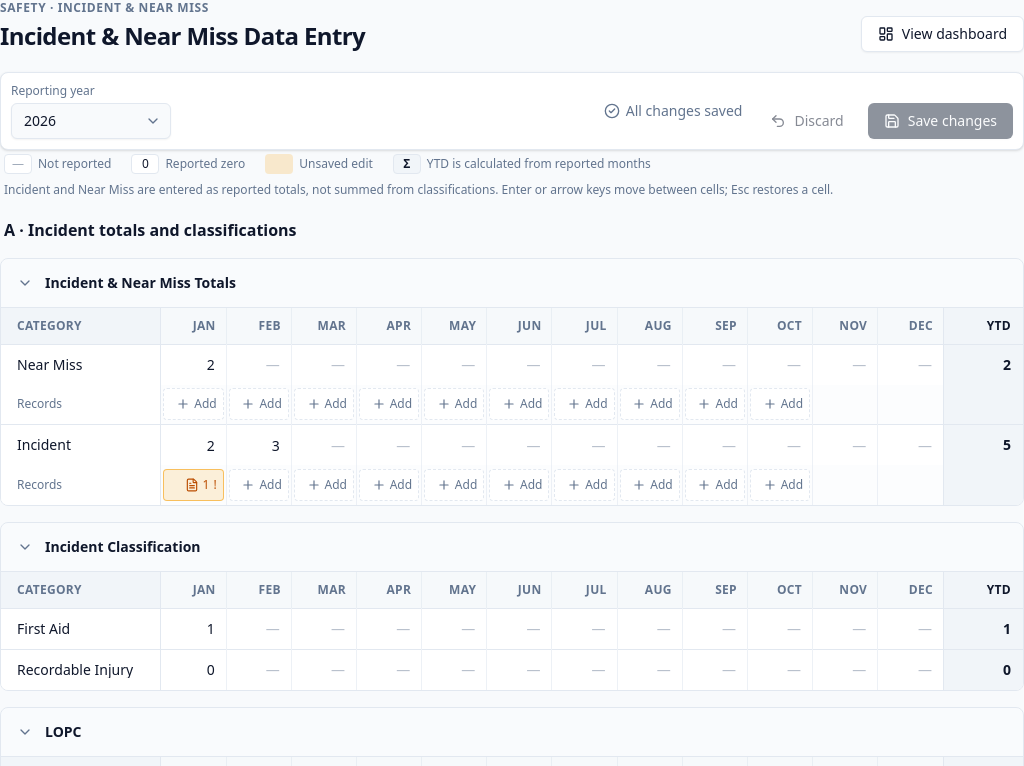
Scenario: Monthly record actions › opens the month's records with the total, count, status and permitted actions only
Click the button "1 !": click(193, 485) [163,469,224,501]
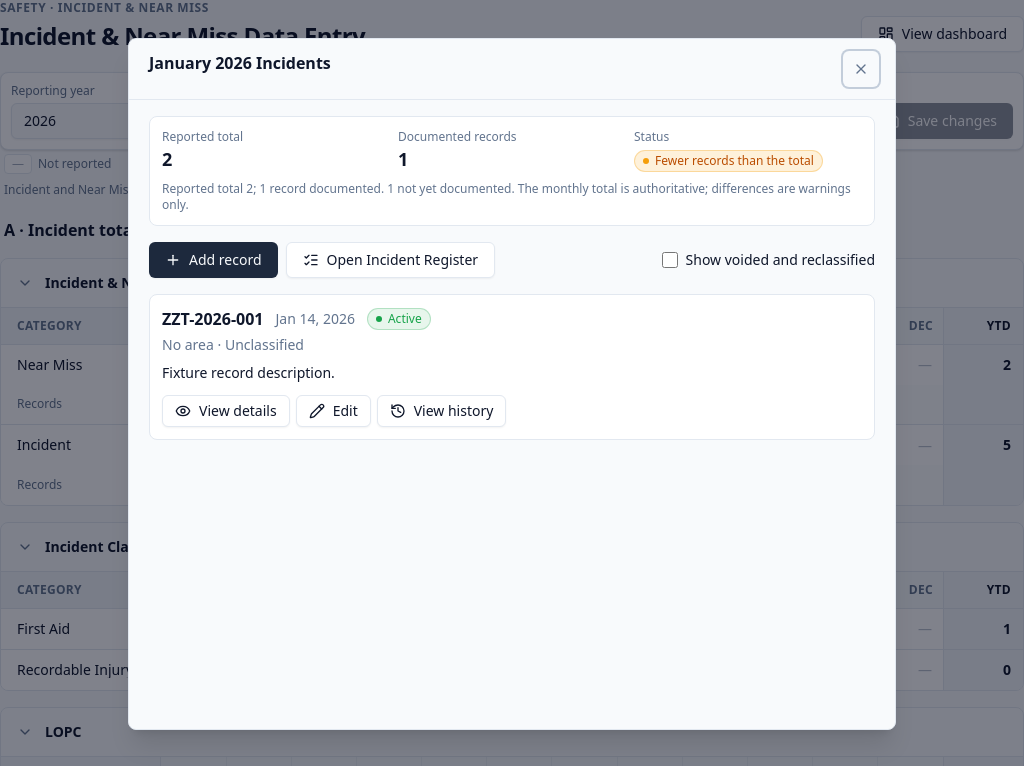
expect the heading "January 2026 Incidents" is shown: met, box [149,52,331,74]
expect the dialog shows "Fewer records than the total": met, box [655,152,814,169]
expect the dialog shows "ZZT-2026-001": met, box [162,308,264,330]
